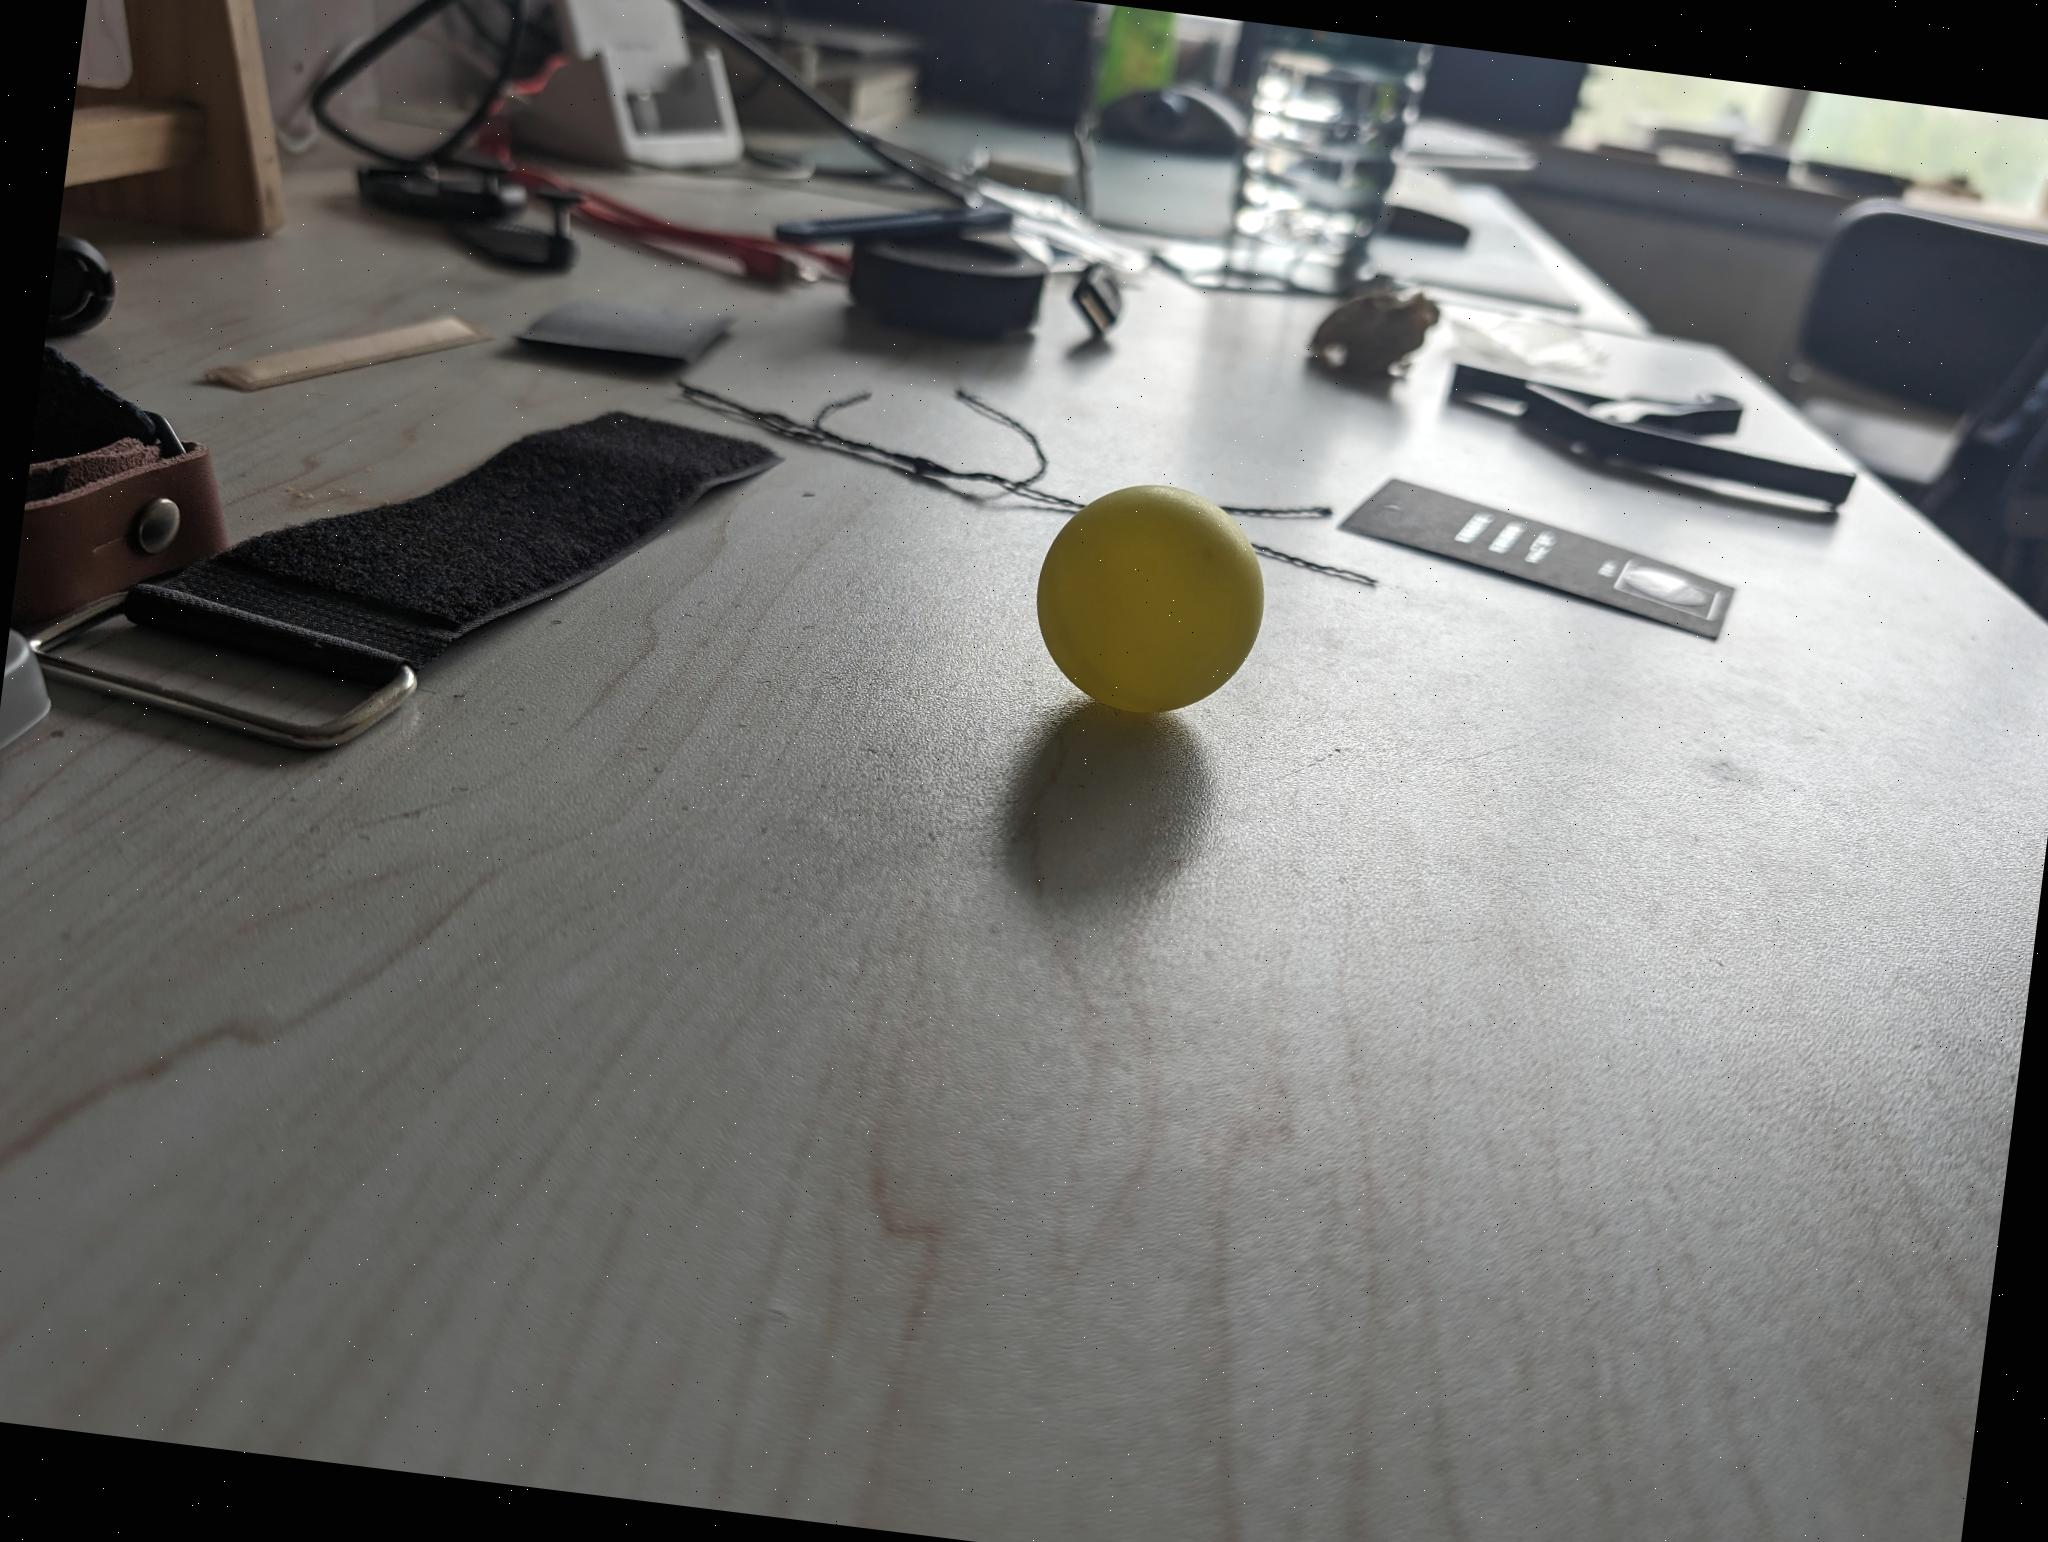ball: (1023, 470, 1279, 729)
